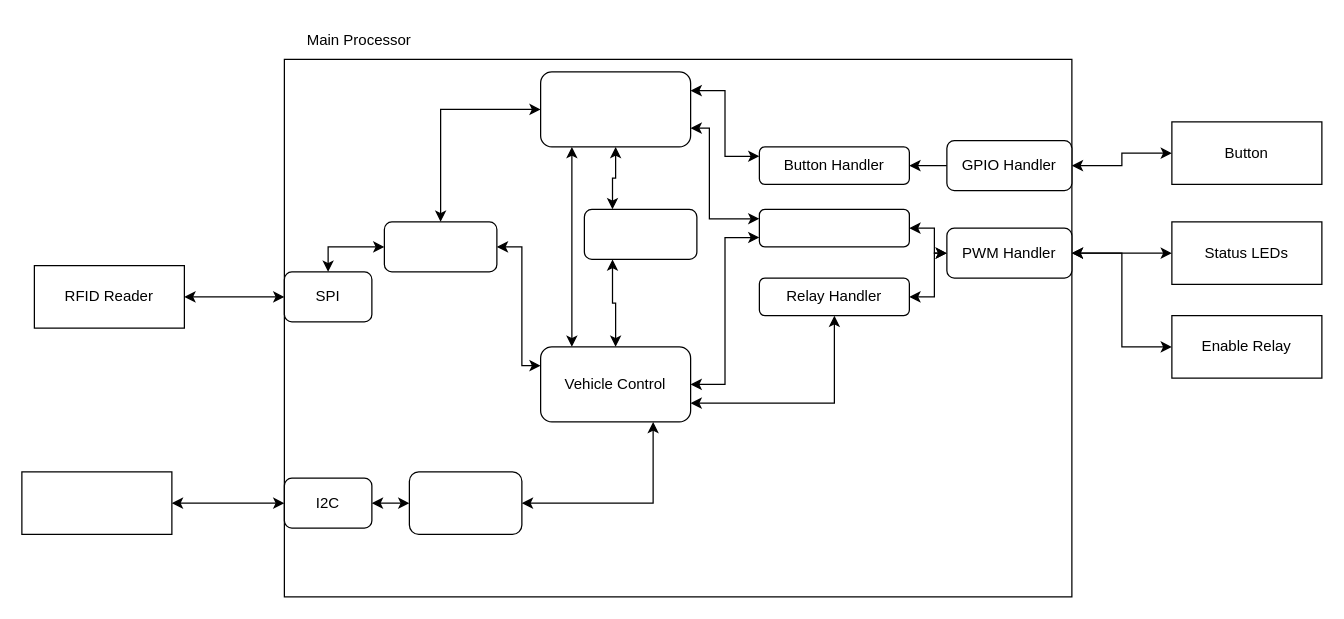
Image size: 1344x619. Some labels were removed from this diagram. The box of each missing label's shape, as (x1, y1, x2, y2) in pixels:
Accelerometer: (21, 471, 172, 534)
Accelerometer Driver: (408, 471, 522, 534)
Adding a User: (539, 71, 691, 147)
Authorized User Database: (583, 208, 697, 259)
LED Handler: (758, 208, 909, 247)
RFID Driver: (383, 221, 497, 272)
